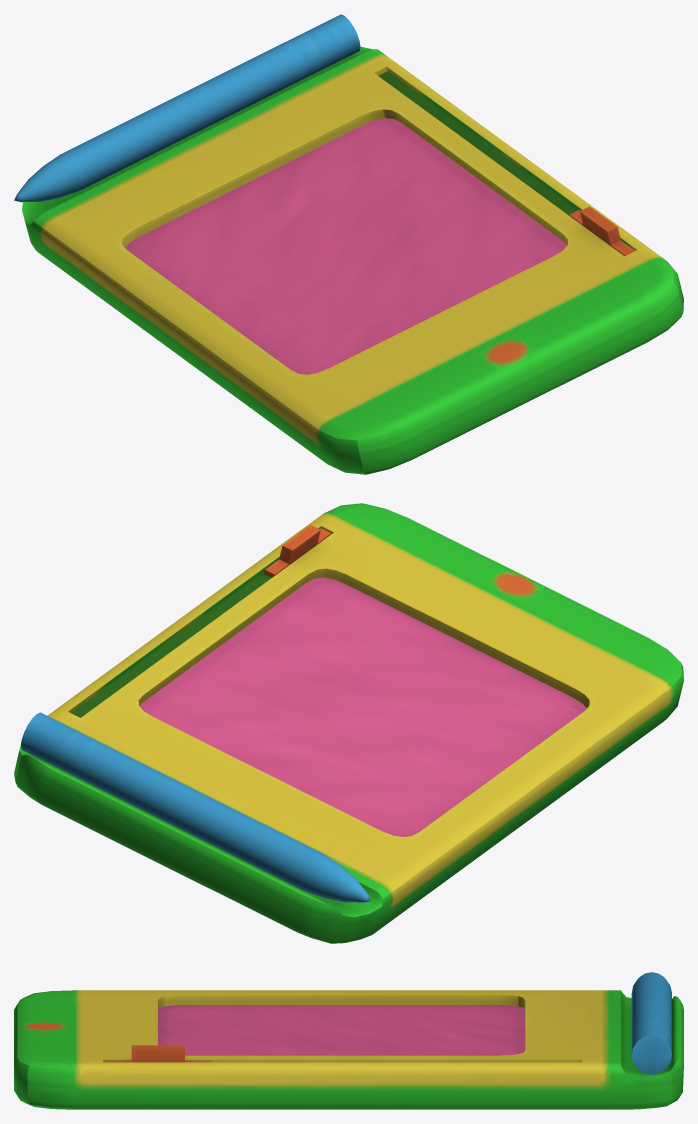
File: GTDrawingBoard.obj
The picture shows the model from 3 angles, top to bottom: view 1: azimuth 30°, elevation 25°; view 2: azimuth 150°, elevation 25°; view 3: azimuth 270°, elevation 25°; orthographic projection. The views are drawn at different scales.
Parts seen in each view (by area): view 1: huaban; view 2: huaban; view 3: huaban.
Boxes of the visible parts, box(x1,y1,x2,y2) form: huaban: box(14, 14, 683, 474); huaban: box(14, 503, 683, 943); huaban: box(14, 972, 683, 1109).
Size of the model in its own units: 1.36 by 0.5503 by 2.29.
